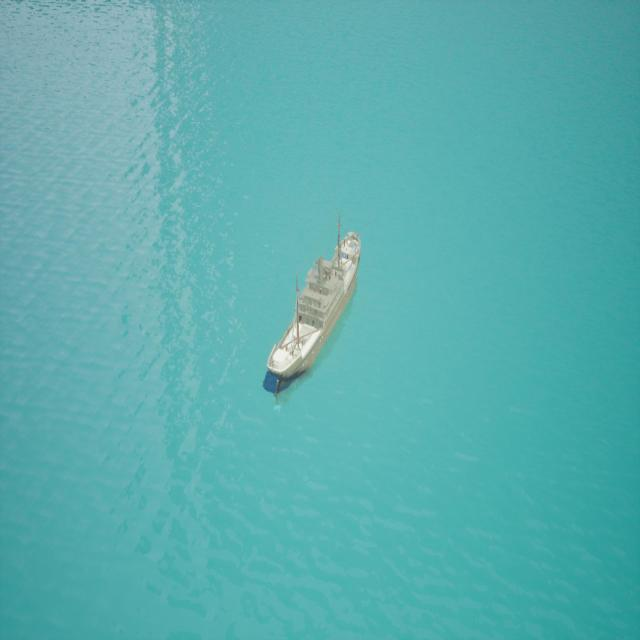fishing ship: (266, 232, 363, 396)
